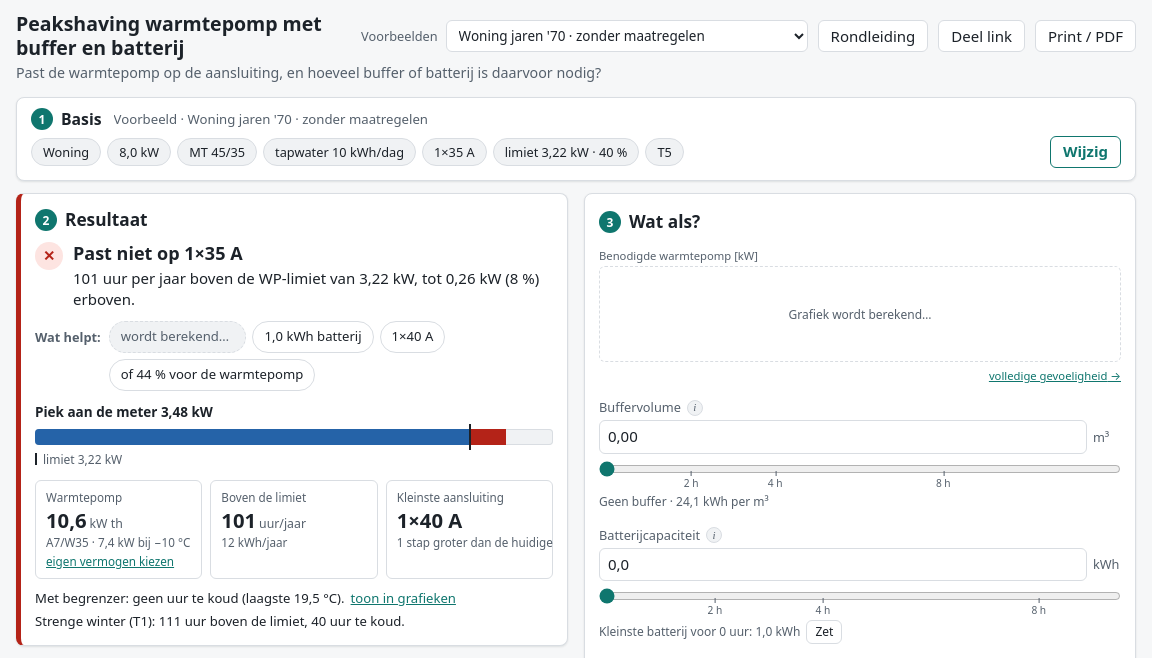
Test case: Rondleiding: ankers en invoer › de Basis blijft open na de rondleiding als je hem zelf openzette of er nog in werkt
Click the button "Rondleiding" at (873, 36), box [818, 20, 928, 52]
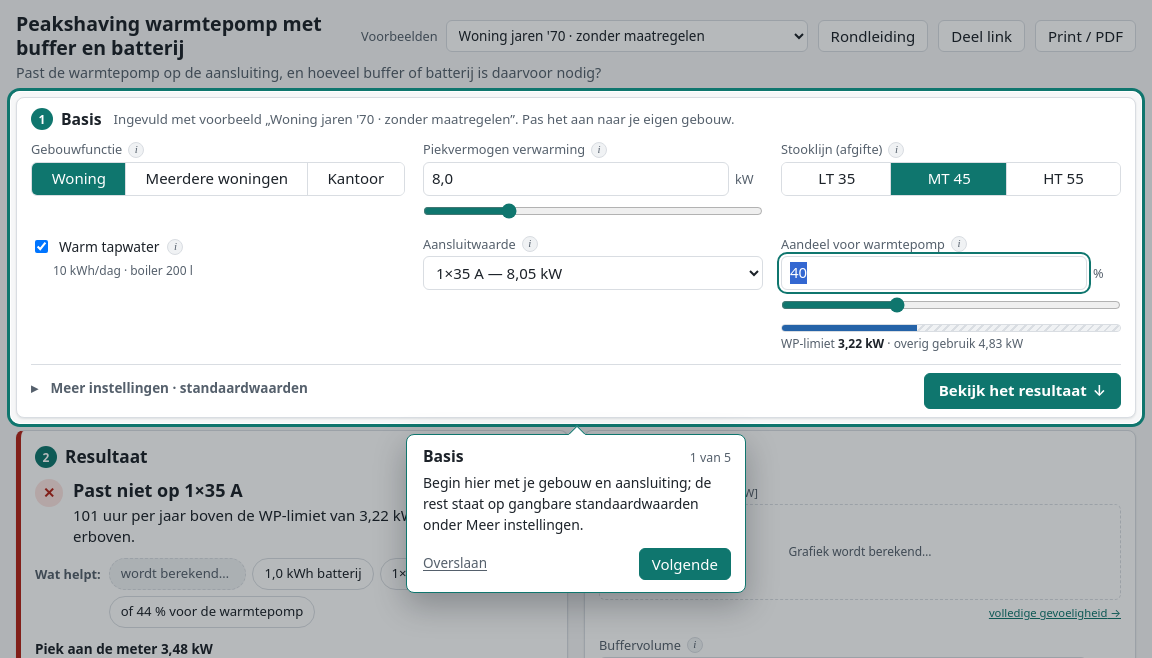
Click the button "Overslaan" at (455, 564), box [417, 550, 493, 578]
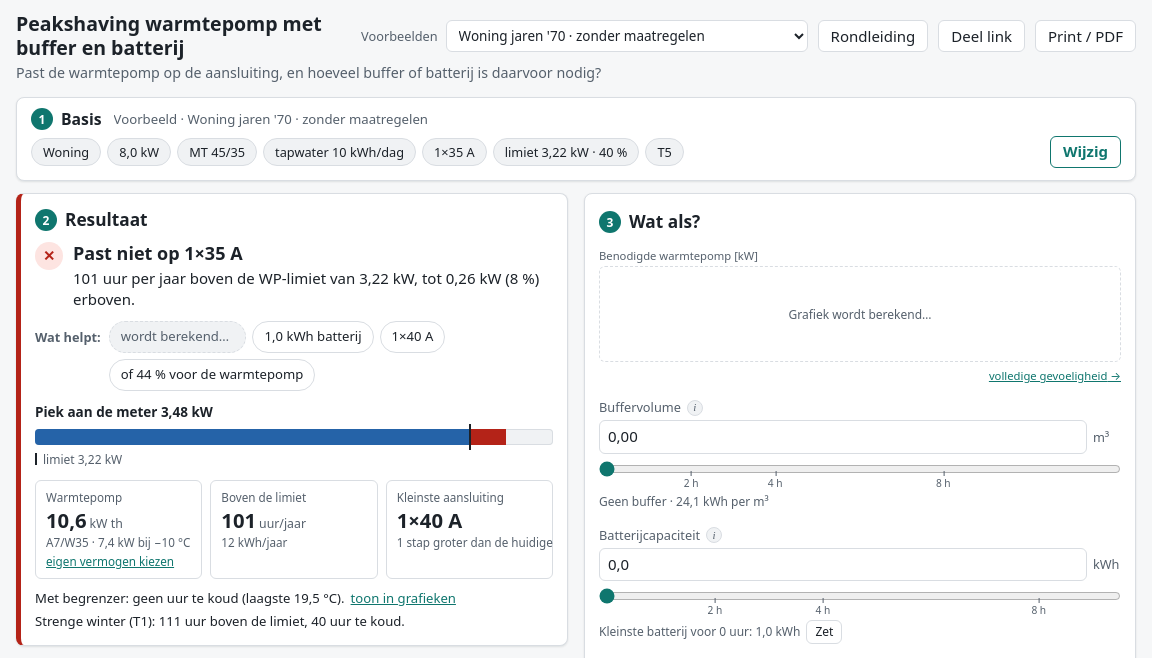
Click the button "Rondleiding" at (873, 36), box [818, 20, 928, 52]
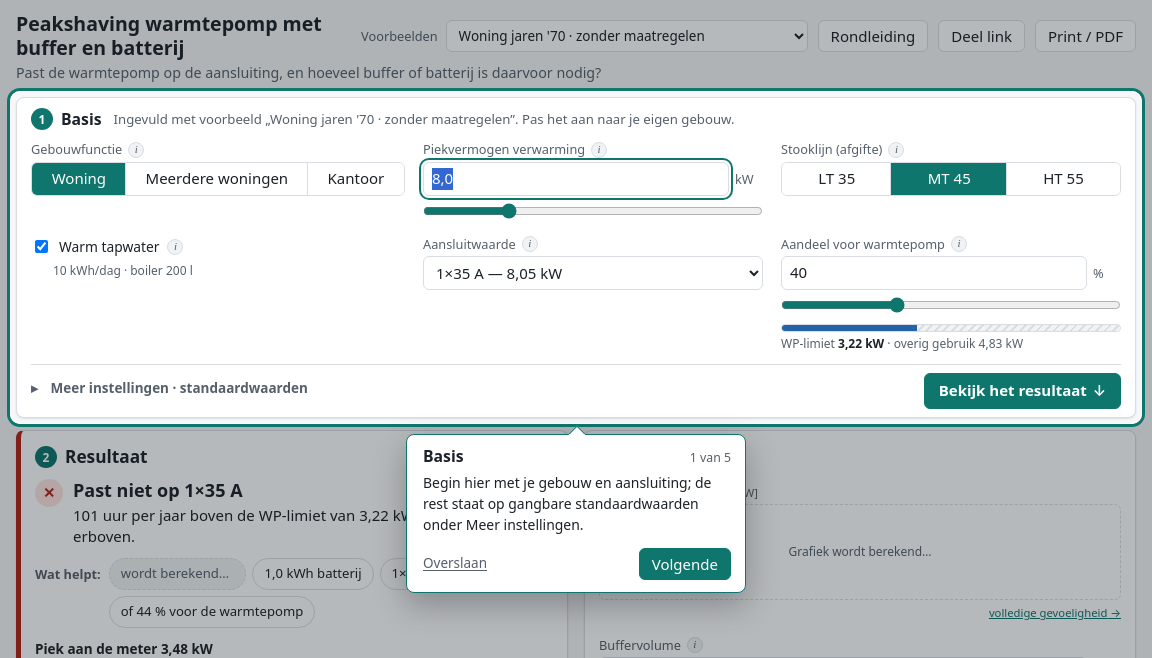
Press Escape in the field labelled "Piekvermogen verwarming", box [423, 162, 729, 196]
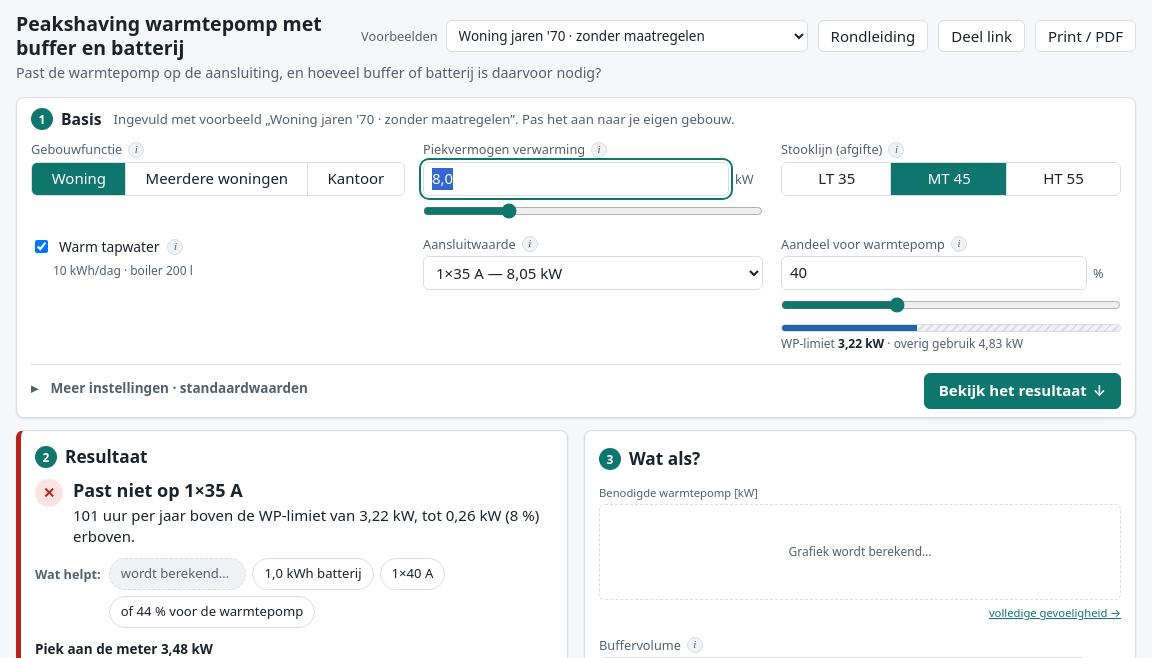
Result: the dialog is gone
